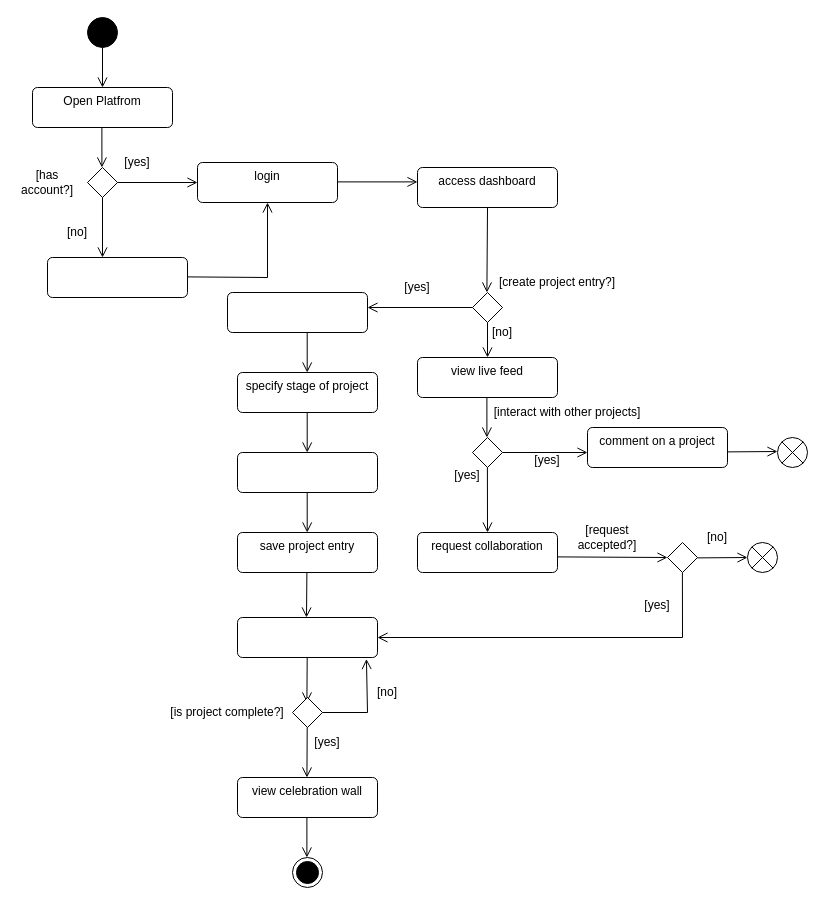
Some shapes in this 825 by 905 pixel diagram are drawn without their labels. Each missing label, with the centre of its shape:
"Enter project details" belongs at pixel 297 312.
"signup" belongs at pixel 117 277.
"specify any support required" belongs at pixel 307 472.
"update project progress" belongs at pixel 307 637.
